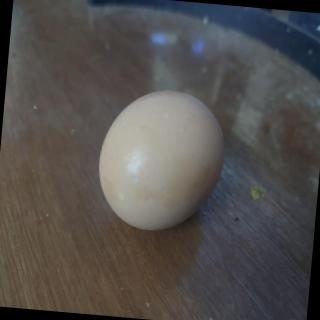Telur: (92, 76, 236, 241)
